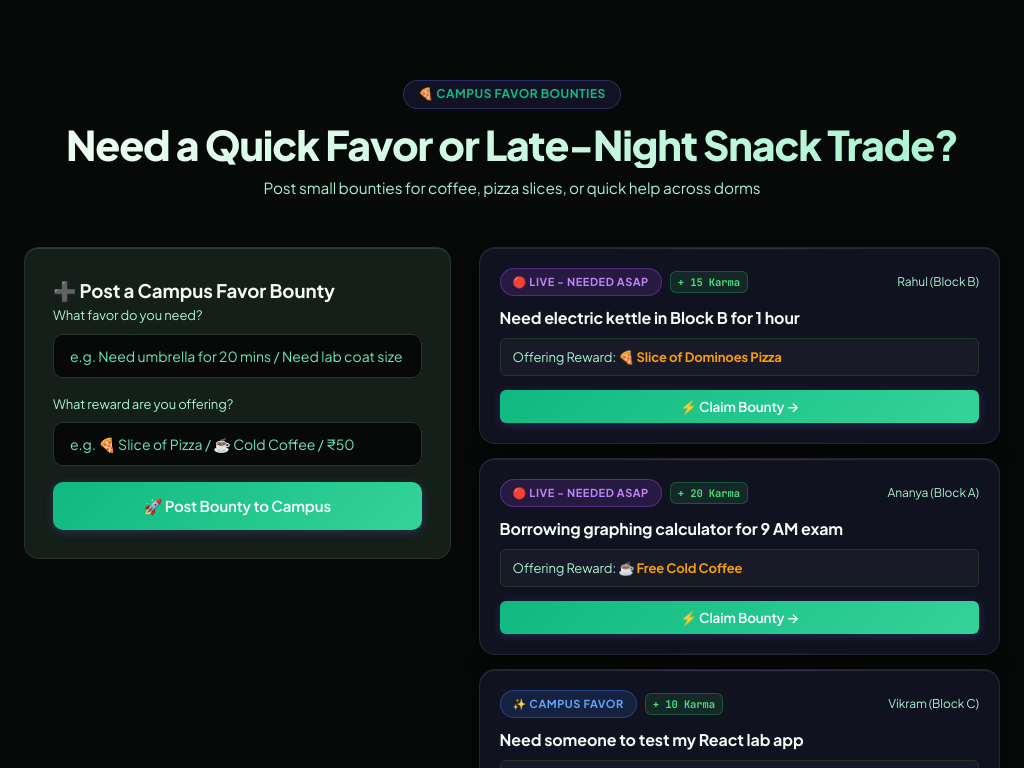
Test: BountyBoard Component Suite › allows user to fill out and submit a new campus favor bounty
In the field with placeholder "e.g. Need umbrella for 20 mins / Need lab coat size M": (237, 356) left=53, top=334, right=422, bottom=378, type "Need lab coat size L for Chemistry lab"
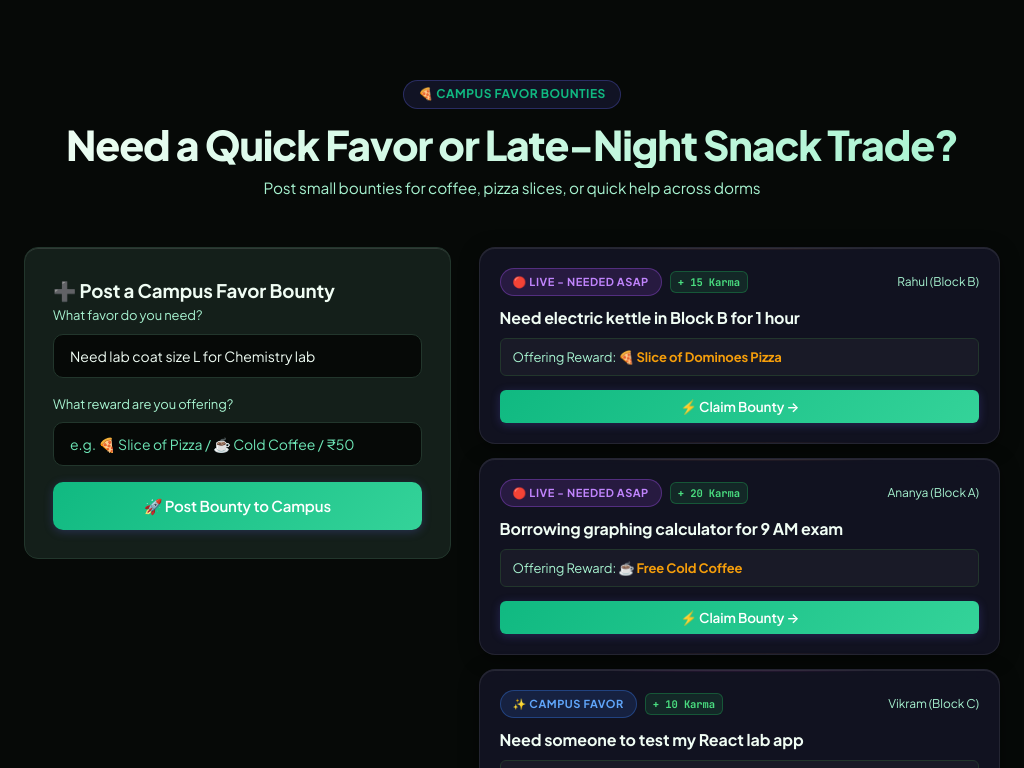
In the field with placeholder "e.g. 🍕 Slice of Pizza / ☕ Cold Coffee / ₹50": (237, 444) left=53, top=422, right=422, bottom=466, type "☕ Cold Coffee"
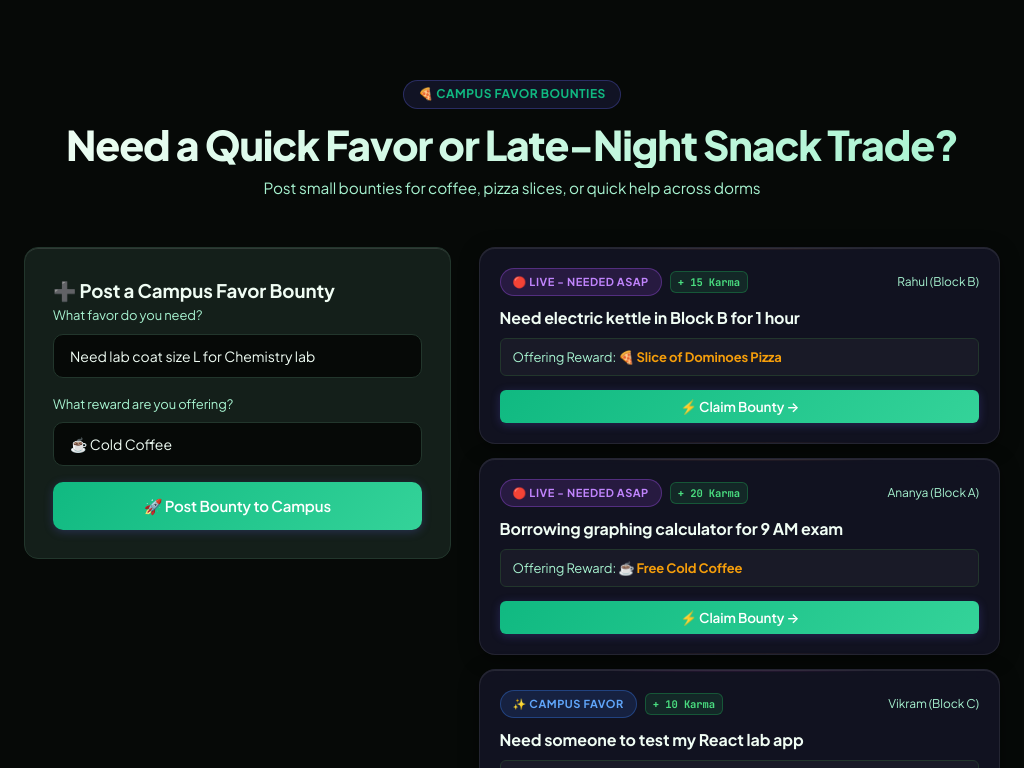
Click the button "🚀 Post Bounty to Campus": (237, 506) left=53, top=482, right=422, bottom=530
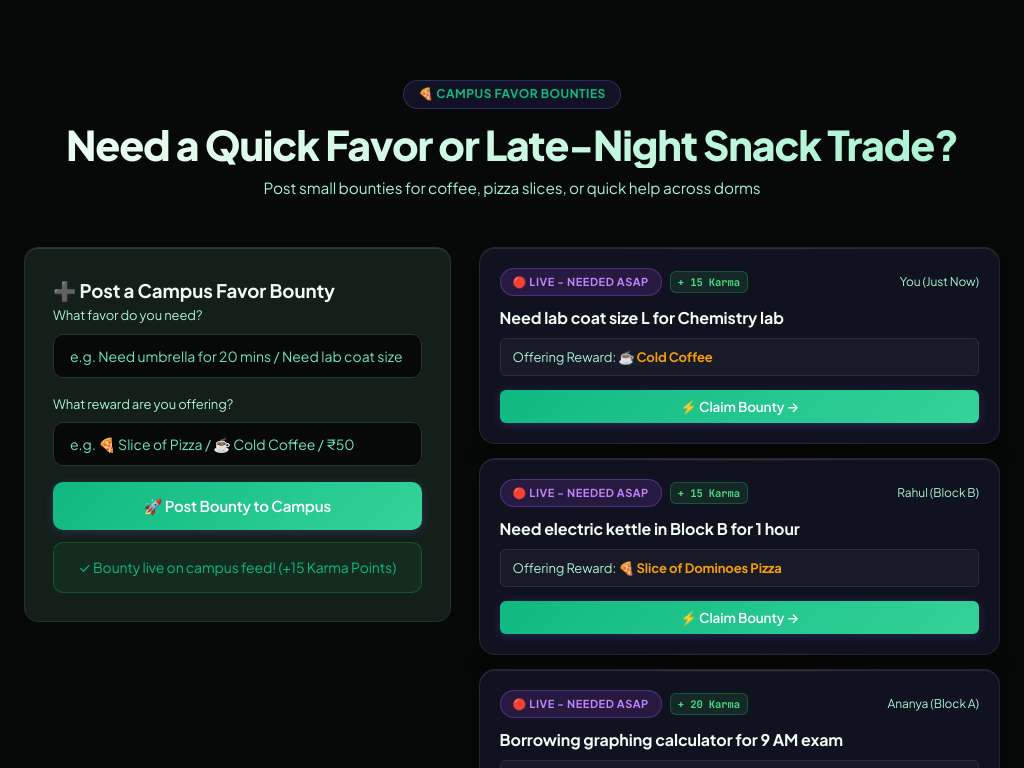
Expected: the text "✓ Bounty live on campus feed! (+15 Karma Points)" is shown, left=53, top=542, right=422, bottom=594
Expected: the heading "Need lab coat size L for Chemistry lab" is shown, left=500, top=306, right=784, bottom=328
Expected: the text "☕ Cold Coffee" is shown, left=618, top=349, right=713, bottom=365
